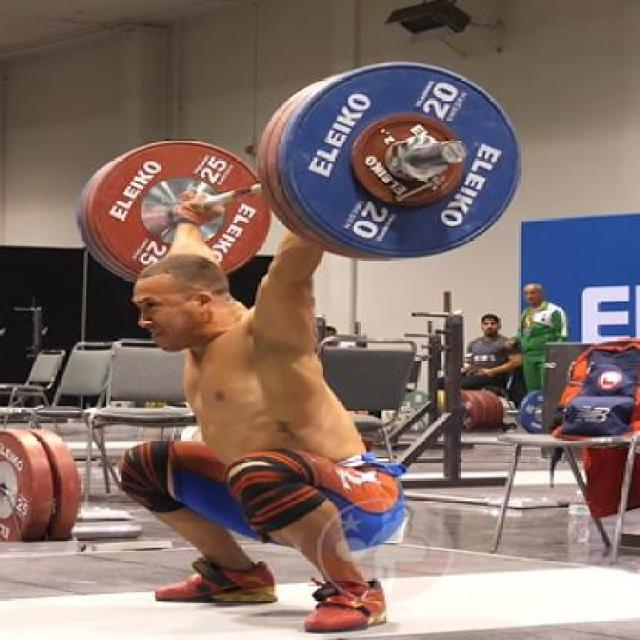barbell: (253, 57, 535, 268)
